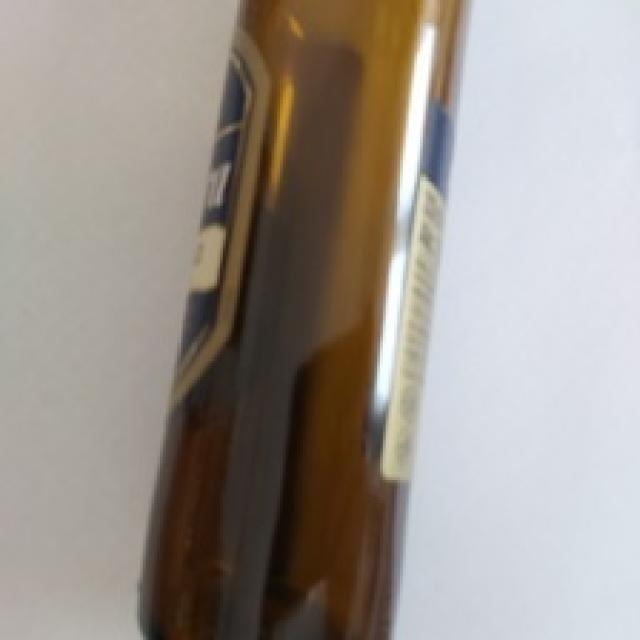Glass: (141, 2, 470, 640)
